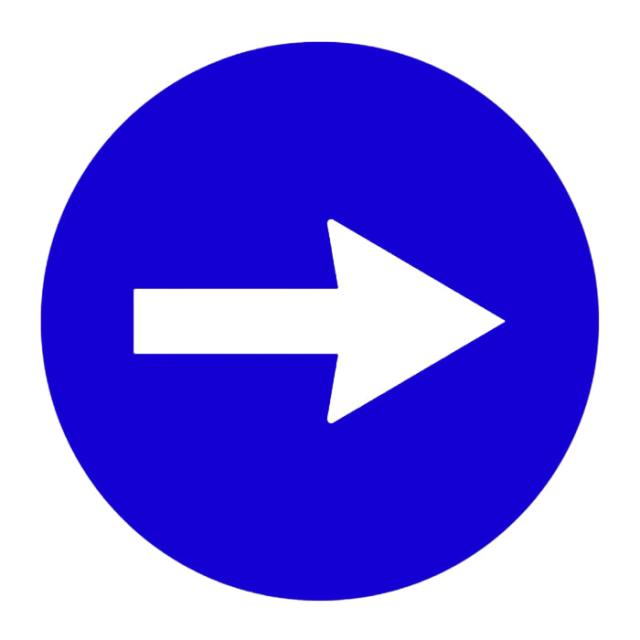SensObligatoire: (38, 40, 602, 602)
